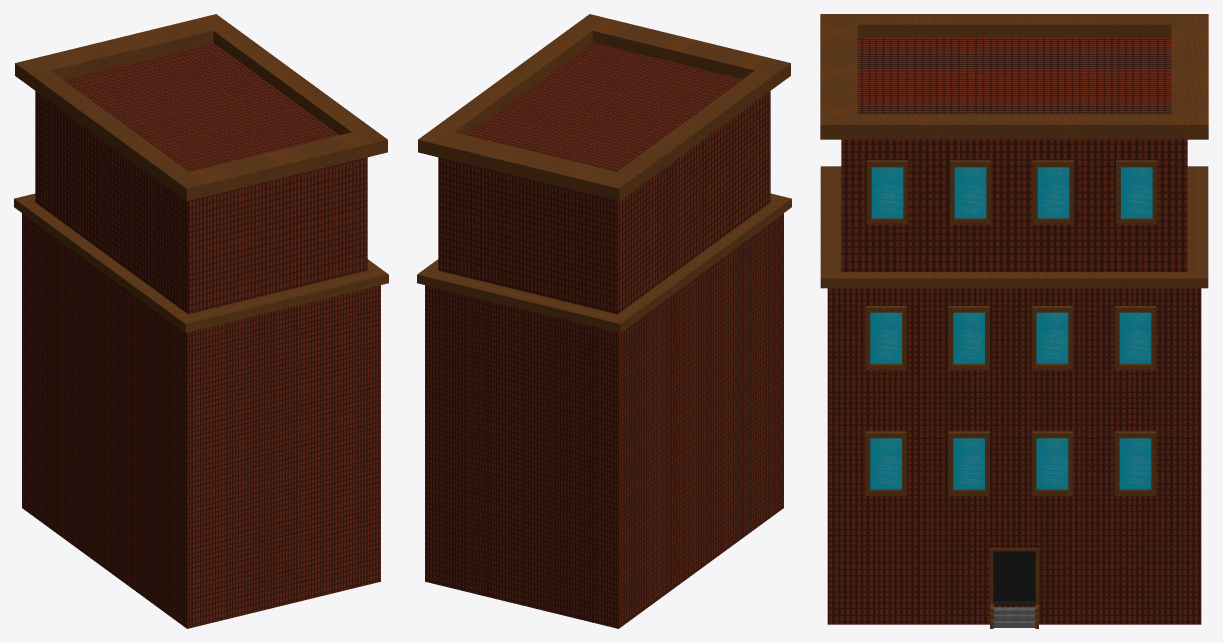
The model's file is Edificio_2_1.fbx.
The picture shows the model from 3 angles, left to right: view 1: azimuth 30°, elevation 25°; view 2: azimuth 150°, elevation 25°; view 3: azimuth 270°, elevation 25°; orthographic projection. The views are drawn at different scales.
Parts seen in each view (by area): view 1: edificio_2; view 2: edificio_2; view 3: edificio_2.
Boxes of the visible parts, x1,y1,x2,y2 form: edificio_2: (14,14,388,628); edificio_2: (417,14,791,628); edificio_2: (820,14,1208,628).
Size of the model in its own units: 954 by 1897 by 1331.
